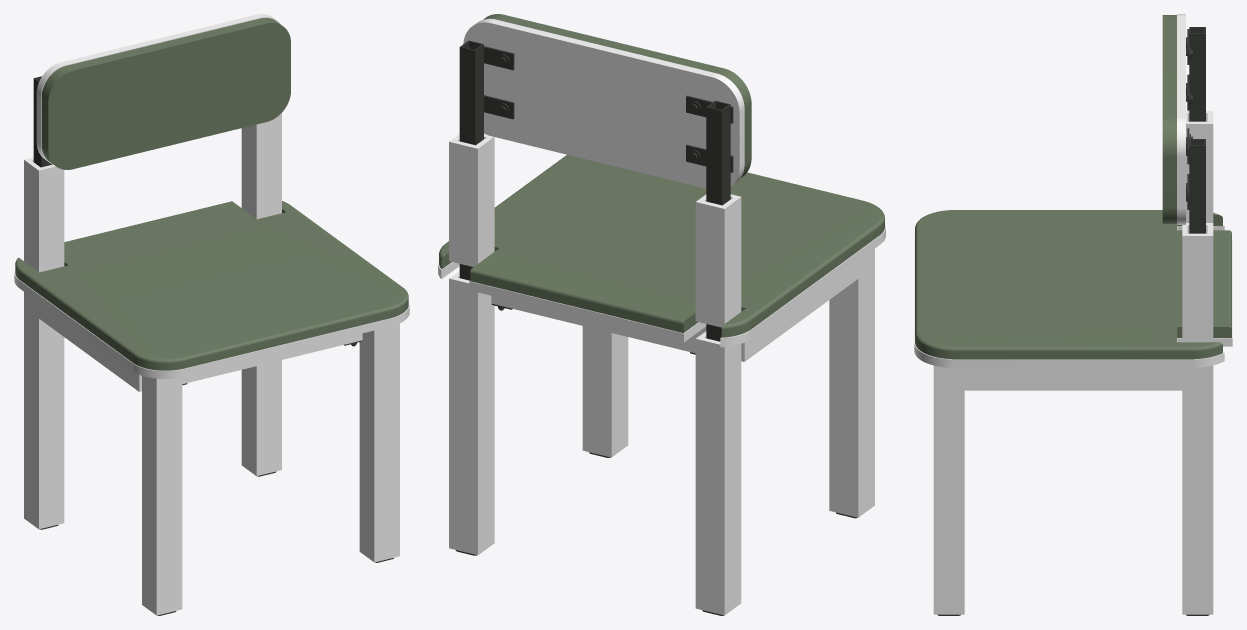
The picture shows the model from 3 angles, left to right: view 1: azimuth 30°, elevation 25°; view 2: azimuth 150°, elevation 25°; view 3: azimuth 270°, elevation 25°; orthographic projection. The views are drawn at different scales.
Parts seen in each view (by area): view 1: seat-upholstery-envelope, back-upholstery-envelope, sleeve-0-0, sleeve-1-0, sleeve-0-1, sleeve-1-1, upper-sleeve-0, upper-sleeve-1, seat-carrier, back-carrier, apron-X--1, apron-Y--1; view 2: seat-upholstery-envelope, back-carrier, sleeve-0-1, sleeve-1-1, sleeve-0-0, upper-sleeve-0, sleeve-1-0, upper-sleeve-1, seat-carrier, leg-0-1, leg-1-1, back-upholstery-envelope (+2 smaller); view 3: seat-upholstery-envelope, sleeve-1-0, sleeve-1-1, apron-X-1, upper-sleeve-1, seat-carrier, back-upholstery-envelope, back-carrier, leg-1-1, leg-0-1, upper-sleeve-0.
Part boxes in pixels (box(x1,y1,x2,y2)): seat-upholstery-envelope: box(15, 201, 408, 370); back-upholstery-envelope: box(41, 18, 290, 169); sleeve-0-0: box(142, 376, 182, 615); sleeve-1-0: box(359, 323, 399, 562); sleeve-0-1: box(24, 292, 64, 529); sleeve-1-1: box(241, 360, 281, 476); upper-sleeve-0: box(24, 157, 64, 272); upper-sleeve-1: box(241, 113, 281, 219); seat-carrier: box(14, 269, 409, 378); back-carrier: box(36, 14, 280, 164); apron-X--1: box(36, 301, 141, 391); apron-Y--1: box(182, 333, 362, 384); seat-upholstery-envelope: box(439, 154, 884, 337); back-carrier: box(463, 18, 744, 188); sleeve-0-1: box(695, 331, 741, 615); sleeve-1-1: box(449, 271, 494, 555); sleeve-0-0: box(829, 249, 874, 517); upper-sleeve-0: box(695, 194, 741, 327); sleeve-1-0: box(582, 326, 628, 457); upper-sleeve-1: box(449, 134, 494, 266); seat-carrier: box(438, 223, 885, 347); leg-0-1: box(706, 100, 730, 341); leg-1-1: box(459, 40, 483, 280); back-upholstery-envelope: box(483, 14, 751, 177); seat-upholstery-envelope: box(915, 210, 1231, 359); sleeve-1-0: box(933, 365, 964, 614); sleeve-1-1: box(1182, 365, 1213, 614); apron-X-1: box(964, 368, 1182, 390); upper-sleeve-1: box(1182, 223, 1213, 342); seat-carrier: box(914, 225, 1232, 367); back-upholstery-envelope: box(1162, 15, 1176, 223); back-carrier: box(1177, 14, 1185, 224); leg-1-1: box(1189, 139, 1205, 233); leg-0-1: box(1189, 27, 1205, 121); upper-sleeve-0: box(1186, 111, 1213, 222).
Size of the model in its own units: 0.5 by 0.8125 by 0.48.
